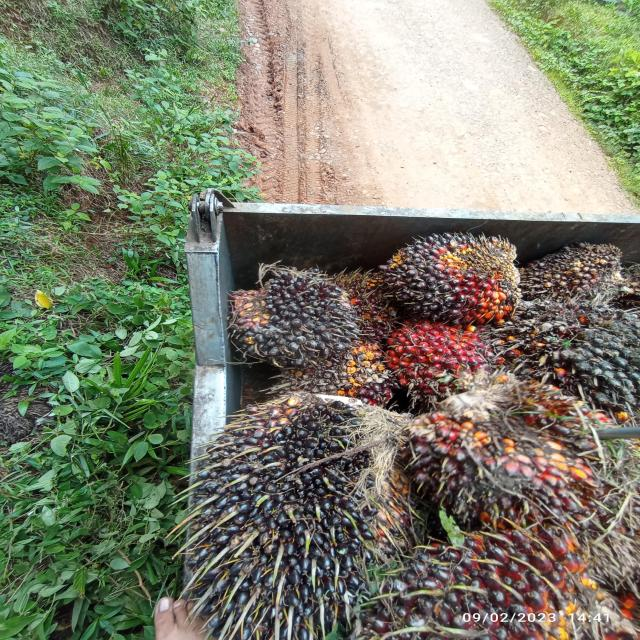fraksi 00: (178, 388, 408, 626), (370, 228, 537, 318), (232, 256, 360, 366), (517, 294, 640, 391)
fraksi 1: (383, 361, 633, 537), (366, 527, 629, 640)
fraksi 3: (372, 311, 504, 386)
